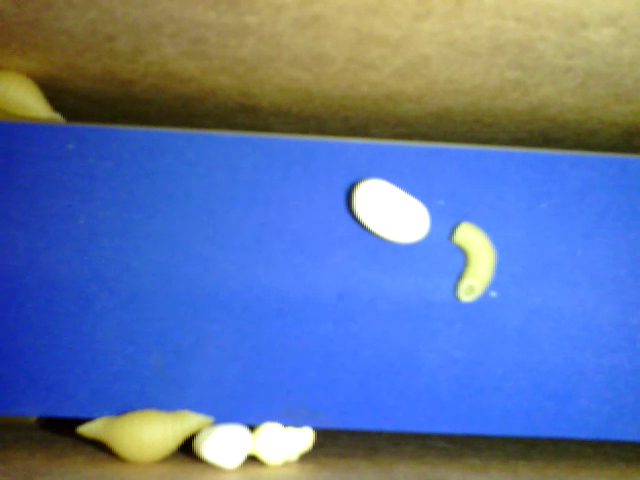elbow: (451, 220, 498, 305)
shell: (78, 410, 216, 463), (1, 68, 70, 127)
